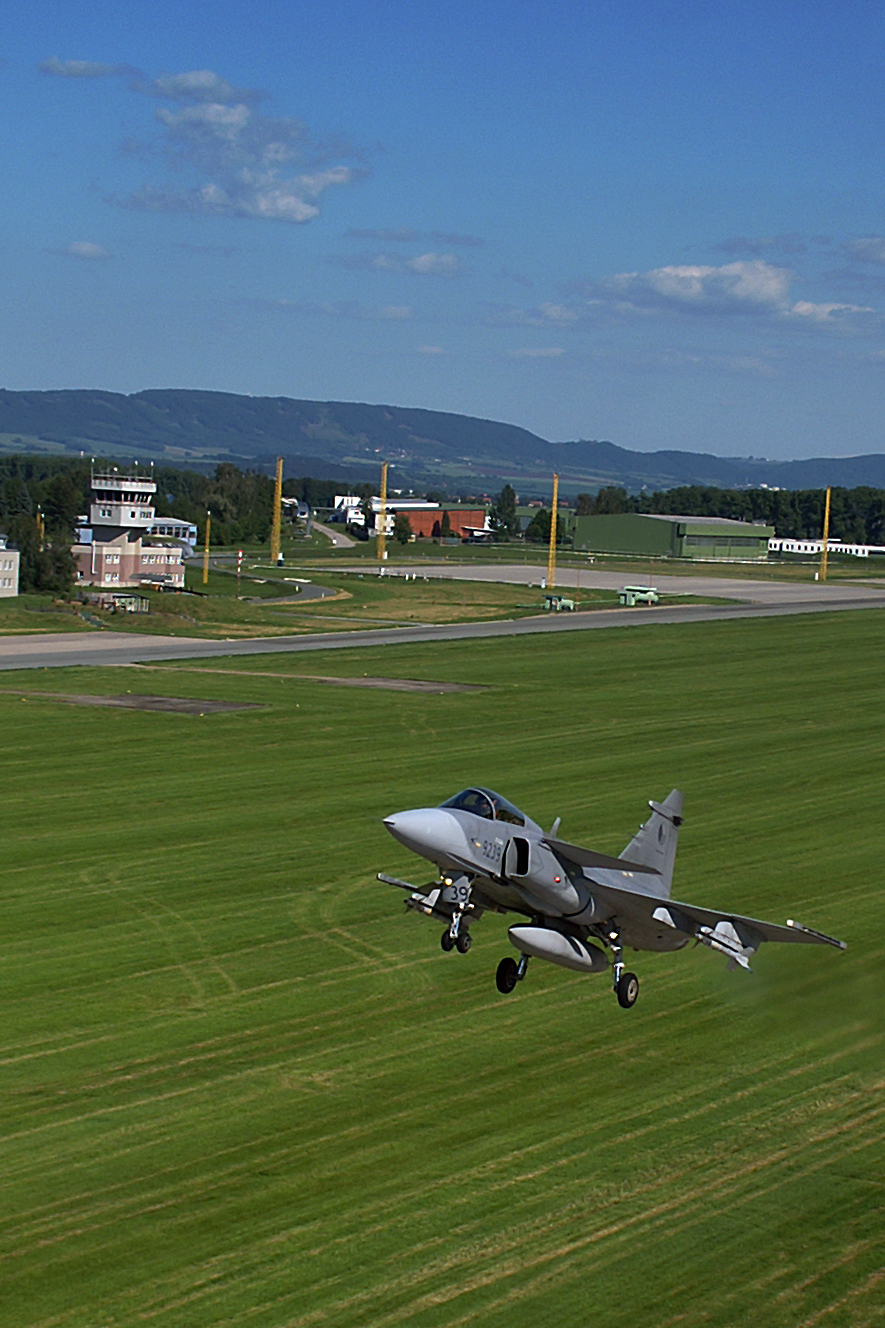JAS39: (361, 786, 847, 1008)
